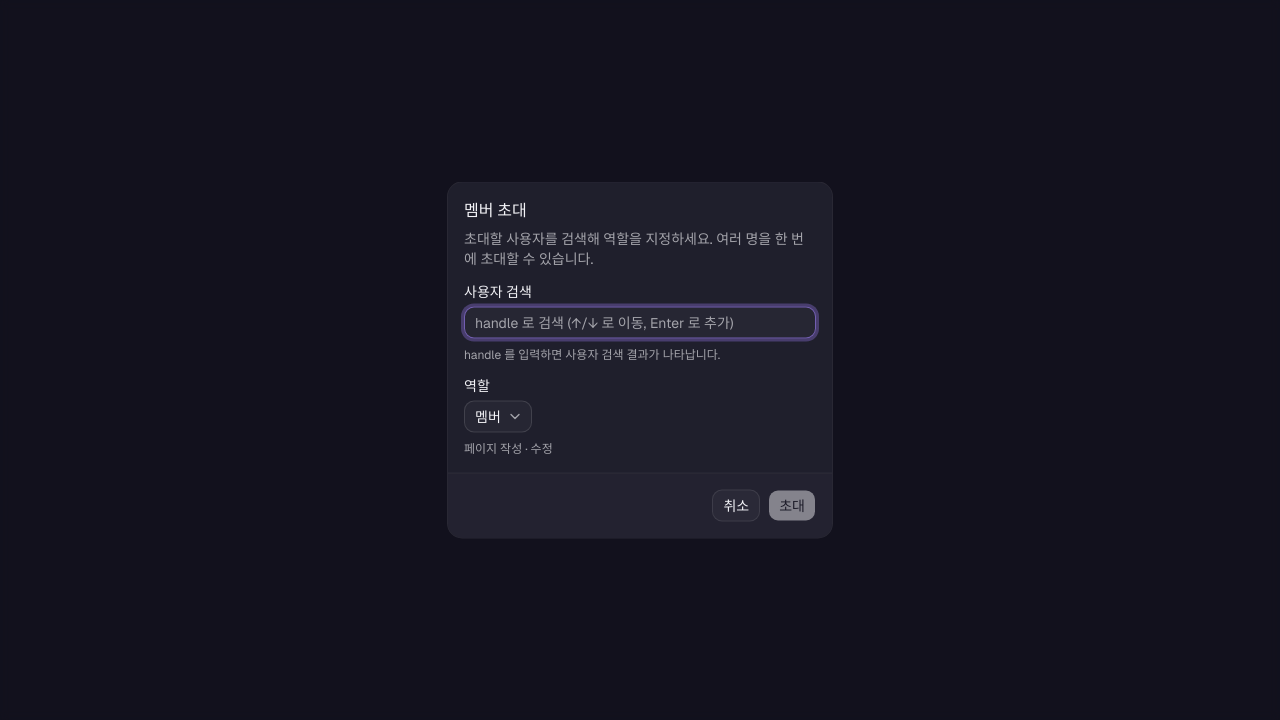
Test: InviteMemberDialog · 사용자 검색 UX › 이미 스페이스에 참여 중인 사용자는 검색 결과에서 숨는다
Type "a" into the field labelled "사용자 검색" at (640, 322), box [464,306,816,338]
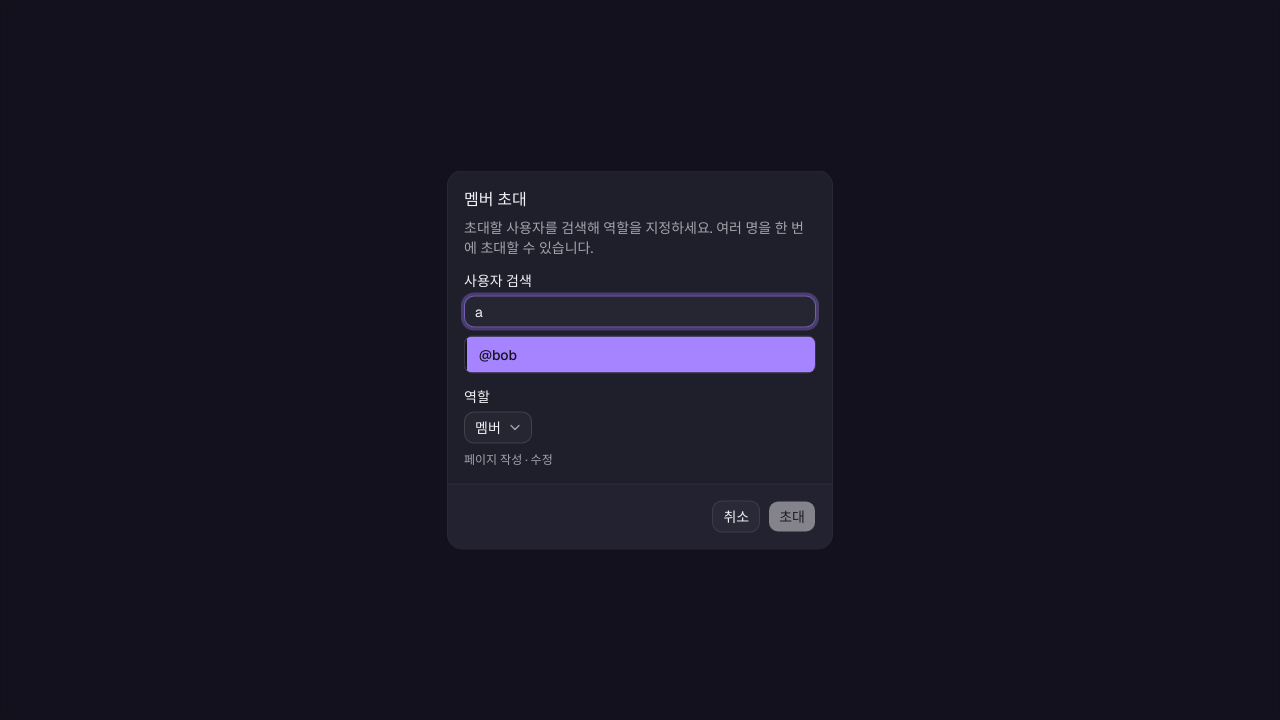
Expected: the option "@bob" is shown, [465,336,815,372]
